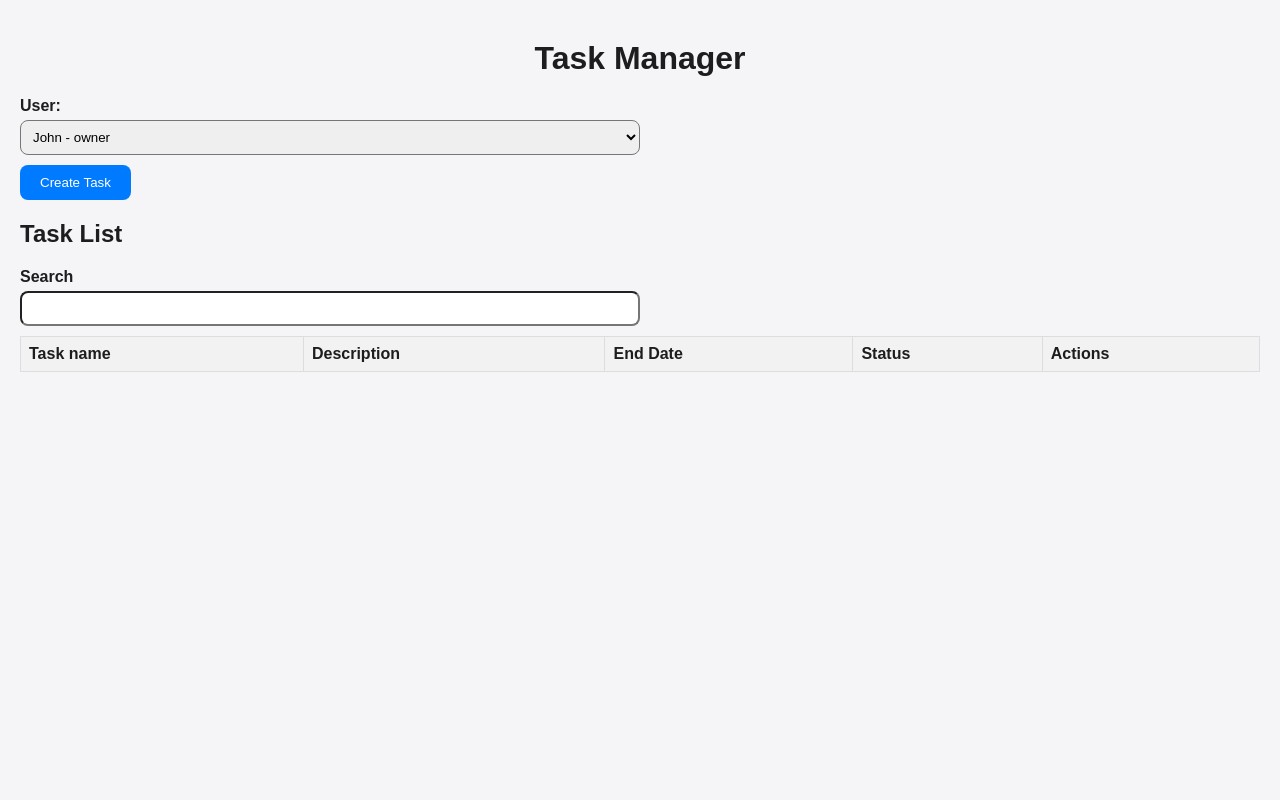
Test: App › allows creating a new task
Click the button at (75, 182), box 20,165 -> 131,200
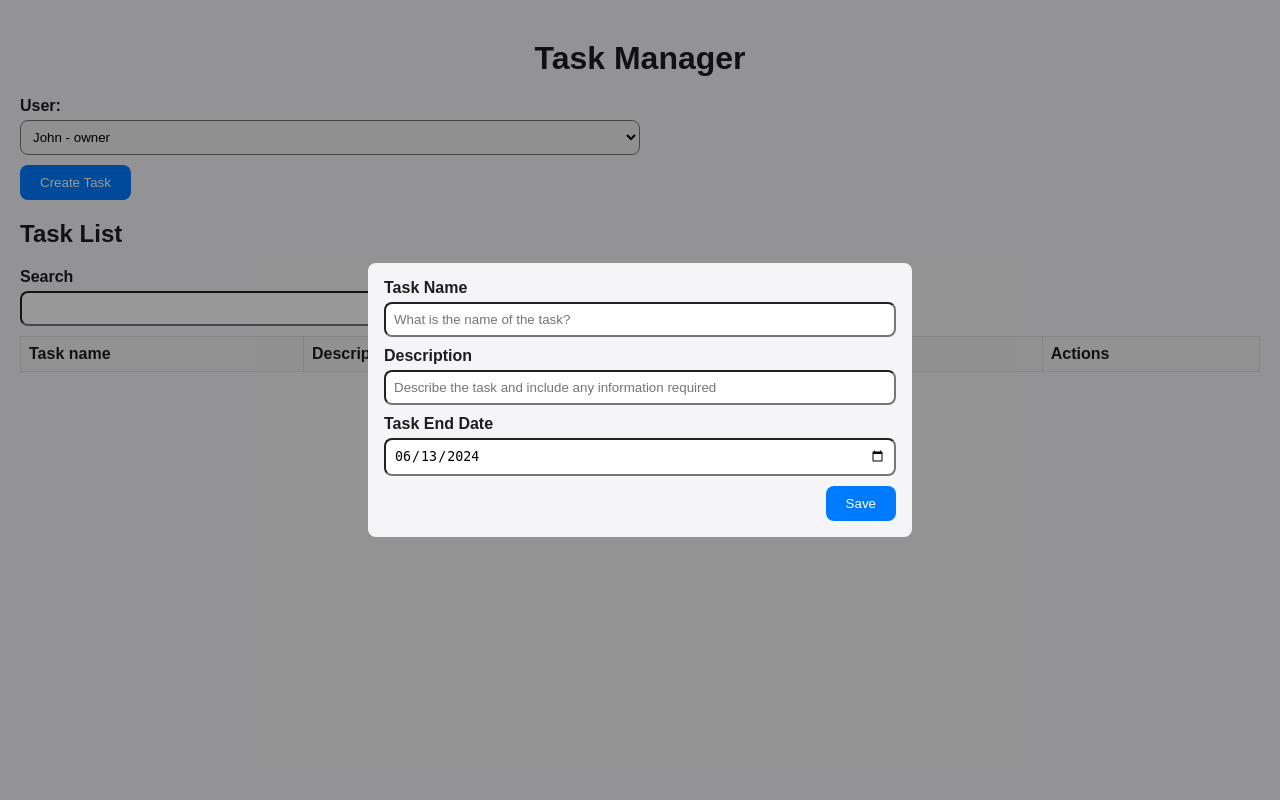
Type "New Task" into the field labelled "Task Name" at (640, 320), box 384,302 -> 896,337
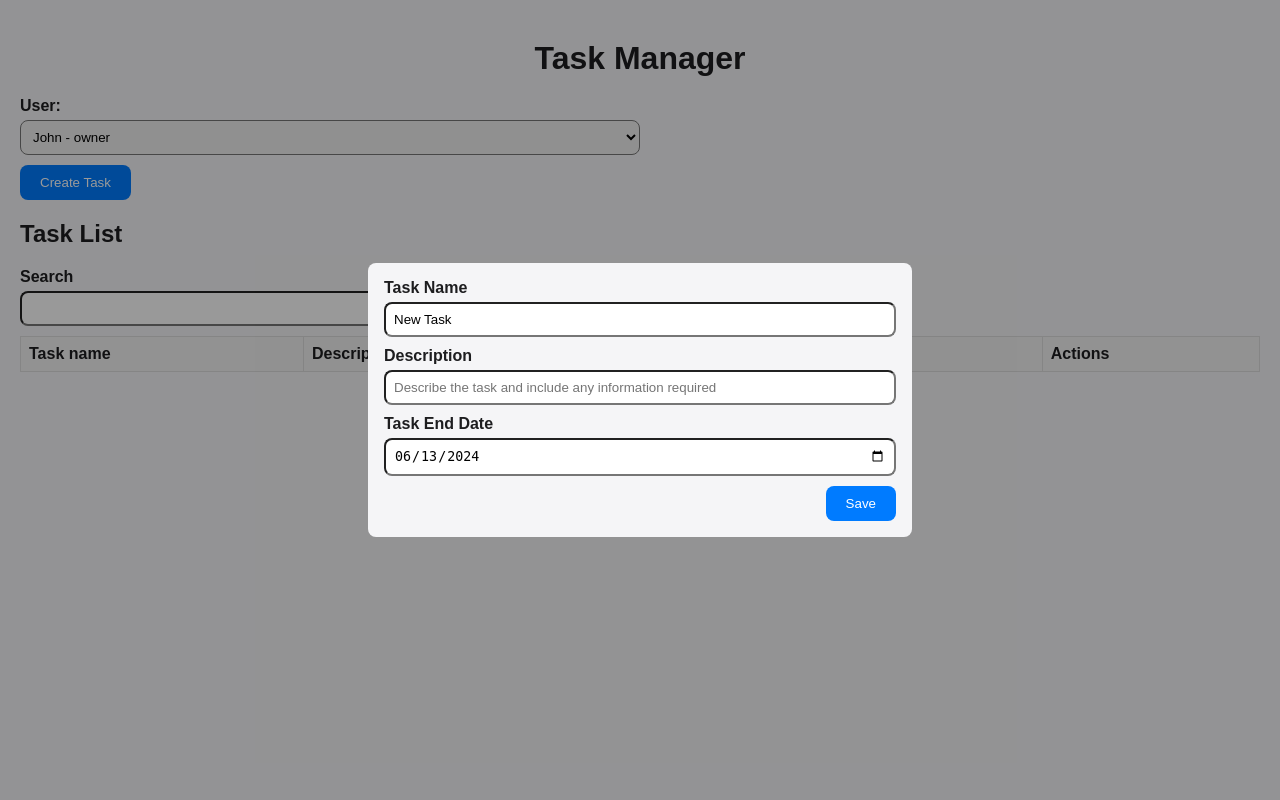
Type "New Description" into the field labelled "Description" at (640, 388), box 384,370 -> 896,405
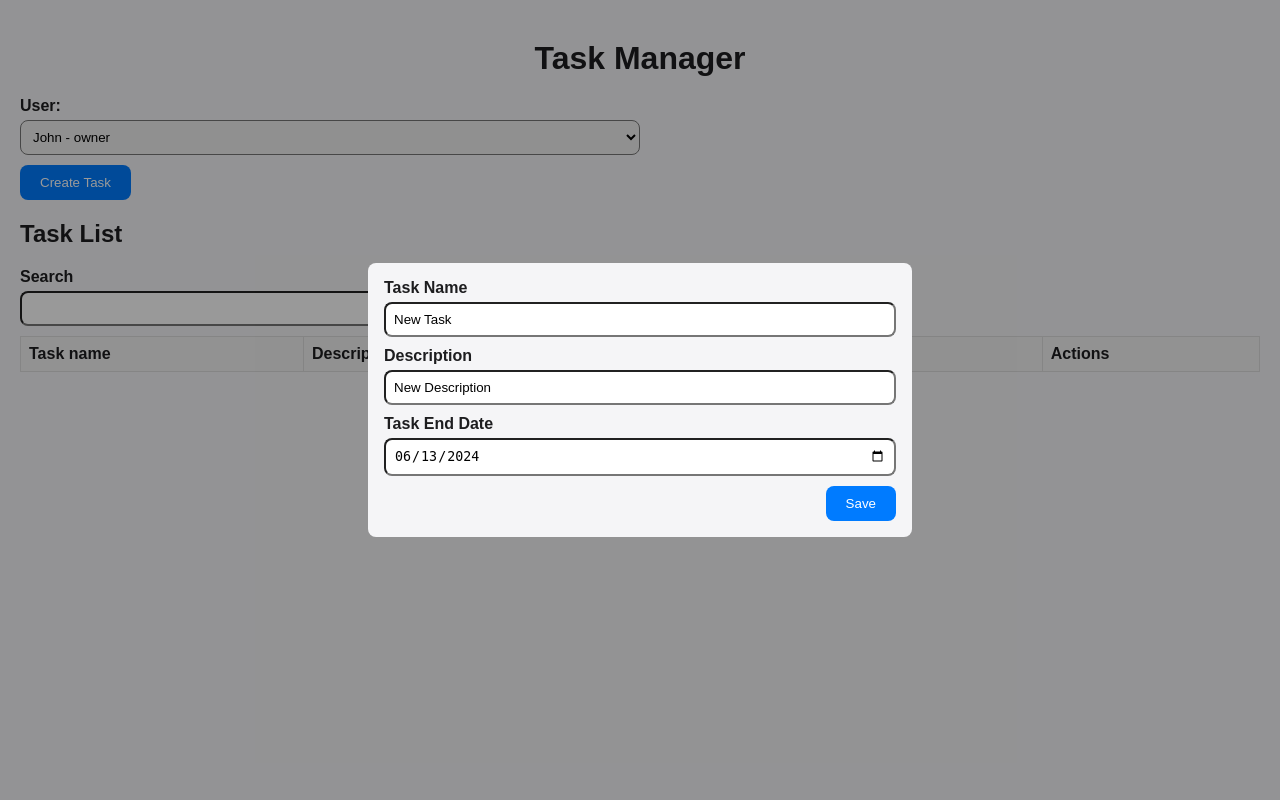
Type "2023-12-31" into the date field labelled "Task End Date" at (640, 457), box 384,438 -> 896,476
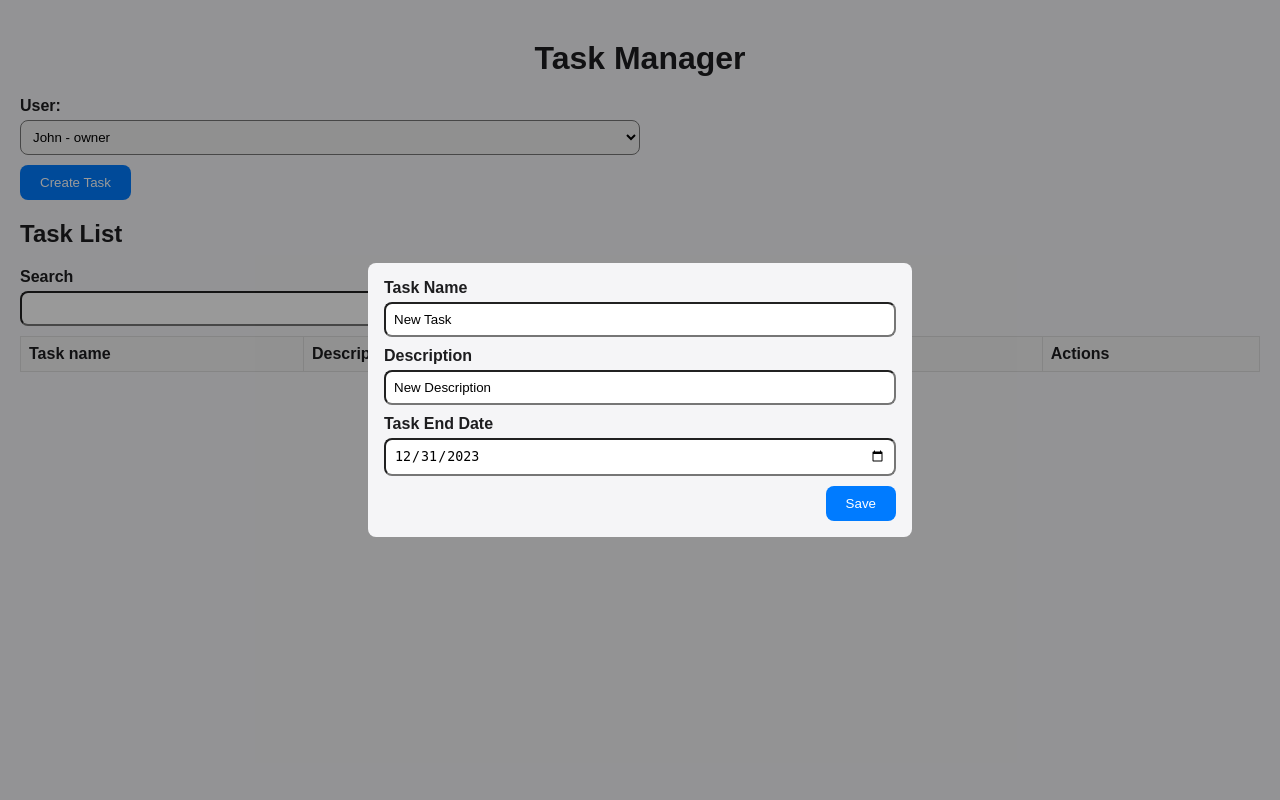
Click the button "Save" at (861, 503), box 826,486 -> 896,521
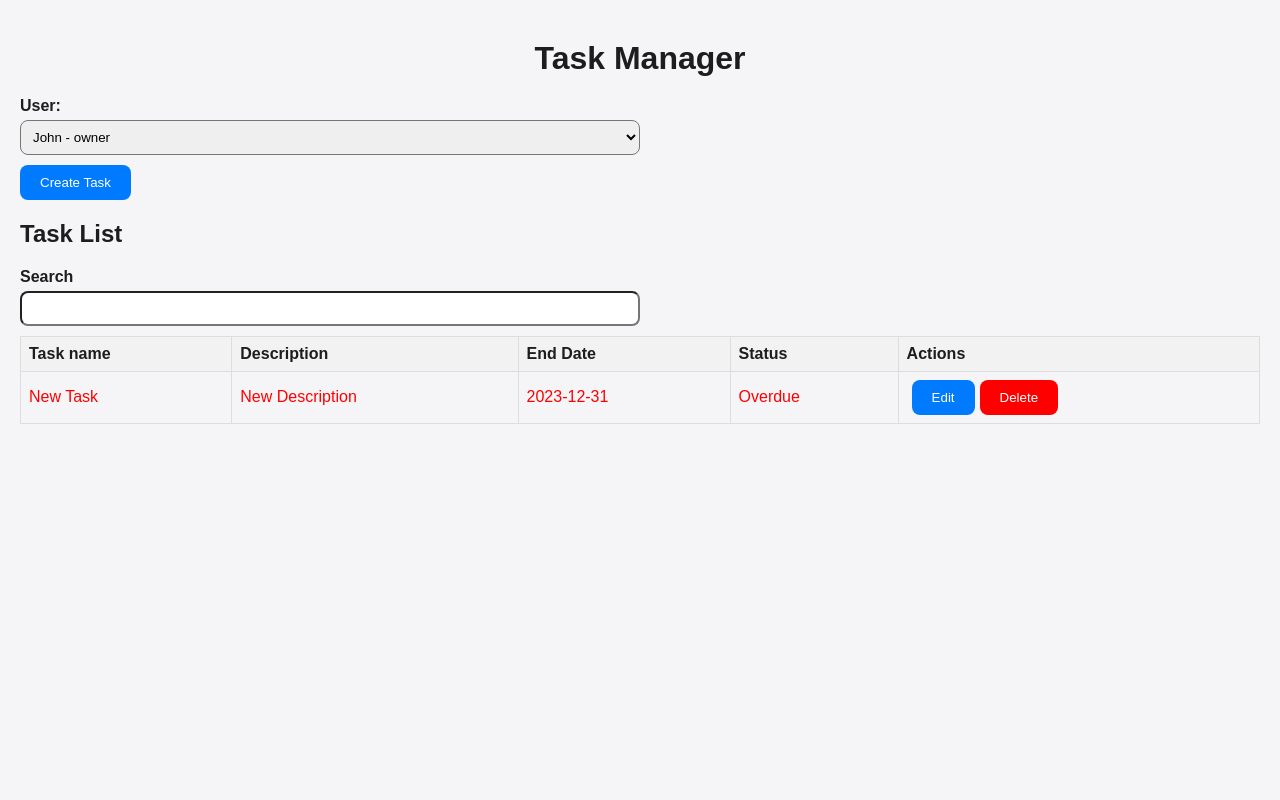
Check: the text "New Task" is shown, box 20,371 -> 232,423
Check: the text "New Description" is shown, box 232,371 -> 518,423
